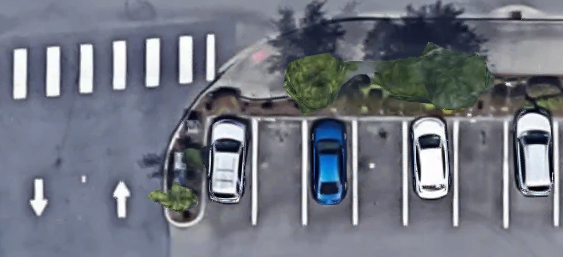Occupied: (305, 117, 356, 227), (205, 116, 255, 226), (456, 117, 506, 226), (406, 117, 455, 226)
Vacant: (505, 117, 557, 226), (356, 116, 407, 227), (255, 116, 305, 226)
